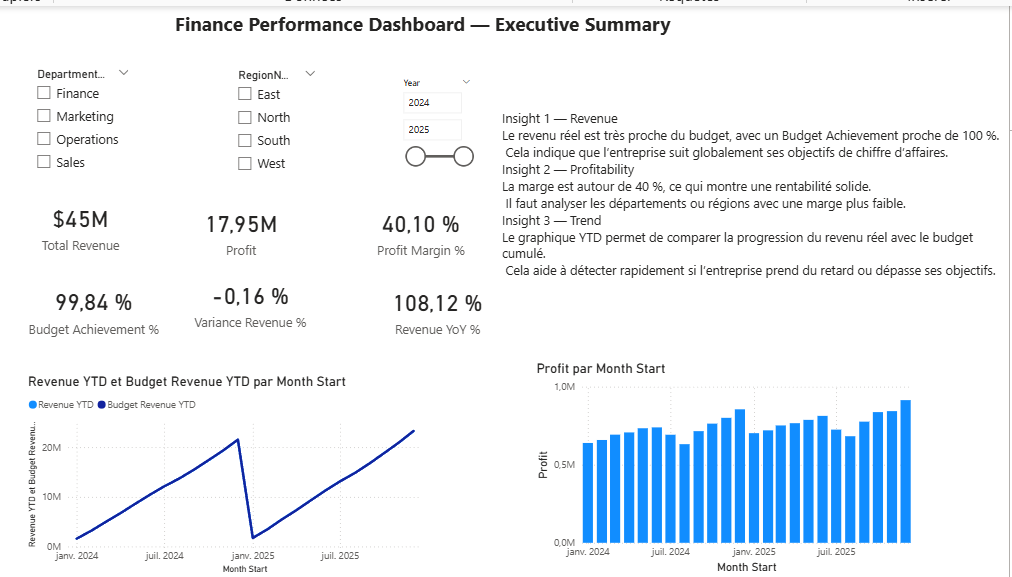

What the dashboard file says about the page in this screenshot:
{"tool":"powerbi","page":{"name":"Executive Summary","canvas":[1280,720],"ordinal":0},"visuals":[{"type":"card","fields":{"Values":["Measures (2).Total Revenue"]},"box":[40.7,209.8,134.5,134.5],"z":0},{"type":"card","fields":{"Values":["Measures (2).Profit"]},"box":[203.7,230.2,213.9,103.9],"z":1000},{"type":"card","fields":{"Values":["Measures (2).Profit Margin %"]},"box":[397.2,238.3,281.1,89.6],"z":2000},{"type":"card","fields":{"Values":["Measures (2).Budget Achievement %"]},"box":[38.7,317.8,175.2,128.3],"z":3000},{"type":"card","fields":{"Values":["Measures (2).Variance Revenue %"]},"box":[226.1,317.8,191.5,112],"z":4000},{"type":"card","fields":{"Values":["Measures (2).Revenue YoY %"]},"box":[454.3,328,209.8,108],"z":5000},{"type":"textbox","box":[223,0,672.8,52.9],"z":6000},{"type":"slicer","fields":{"Values":["Dim_Region.RegionName"]},"box":[295.4,73.3,122.2,148.7],"z":7000},{"type":"slicer","fields":{"Values":["Dim_Date_Calendar.Year"]},"box":[503.2,85.6,110,150.7],"z":8000},{"type":"slicer","fields":{"Values":["Dim_Department.DepartmentName"]},"box":[40.7,71.3,140.6,150.7],"z":9000},{"type":"lineChart","fields":{"Y":["Measures (2).Revenue YTD","Measures (2).Budget Revenue YTD"],"Category":["Dim_Date_Calendar.Month Start"]},"box":[38.7,462.4,519.5,256.7],"z":10000},{"type":"columnChart","fields":{"Y":["Measures (2).Profit"],"Category":["Dim_Date_Calendar.Month Start"]},"box":[678.4,446.1,501.1,273],"z":11000},{"type":"textbox","box":[635.6,124.3,643.7,258.7],"z":12000}]}

Visuals, with their boxes on the page's 1280x720 design canvas (x1, y1, x2, y2). These are canvas units, not pixel positions in the 1012x577 screenshot, which may show the page scaled, cropped or inside an application window:
card - Measures (2).Total Revenue: 41:210:175:344
card - Measures (2).Profit: 204:230:418:334
card - Measures (2).Profit Margin %: 397:238:678:328
card - Measures (2).Budget Achievement %: 39:318:214:446
card - Measures (2).Variance Revenue %: 226:318:418:430
card - Measures (2).Revenue YoY %: 454:328:664:436
textbox: 223:0:896:53
slicer - Dim_Region.RegionName: 295:73:418:222
slicer - Dim_Date_Calendar.Year: 503:86:613:236
slicer - Dim_Department.DepartmentName: 41:71:181:222
lineChart - Measures (2).Revenue YTD x Measures (2).Budget Revenue YTD: 39:462:558:719
columnChart - Measures (2).Profit x Dim_Date_Calendar.Month Start: 678:446:1180:719
textbox: 636:124:1279:383
